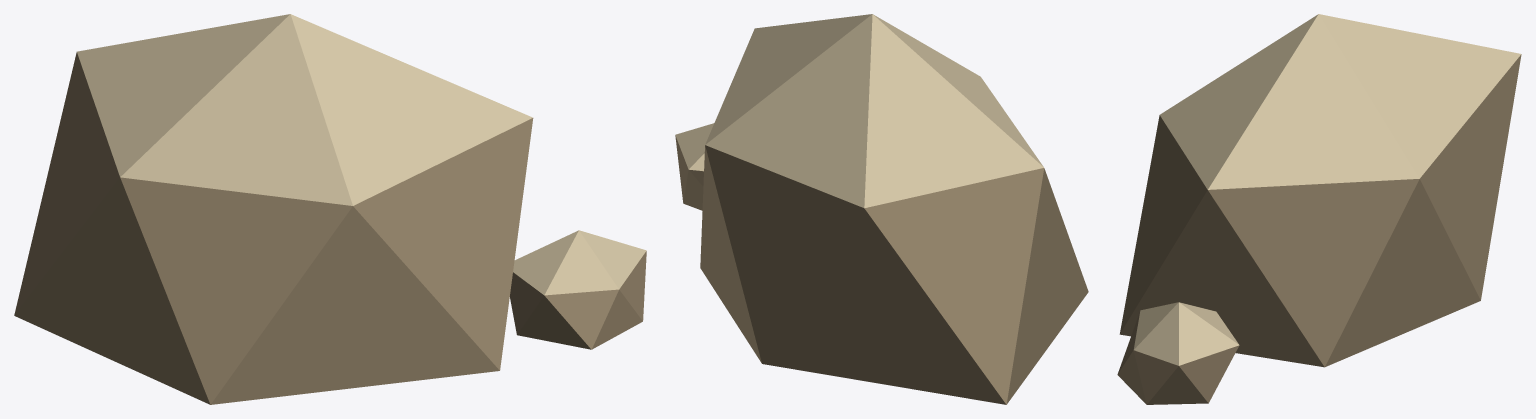
File: rockB.glb
The picture shows the model from 3 angles, left to right: view 1: azimuth 30°, elevation 25°; view 2: azimuth 150°, elevation 25°; view 3: azimuth 270°, elevation 25°; orthographic projection. The views are drawn at different scales.
Visible parts, largest first — view 1: rockB; view 2: rockB; view 3: rockB.
Part boxes in pixels (x1=…): rockB: x1=14, y1=14, x2=646, y2=404; rockB: x1=675, y1=14, x2=1088, y2=404; rockB: x1=1117, y1=14, x2=1521, y2=404.
Size of the model in its own units: 0.3675 by 0.2176 by 0.2891.
